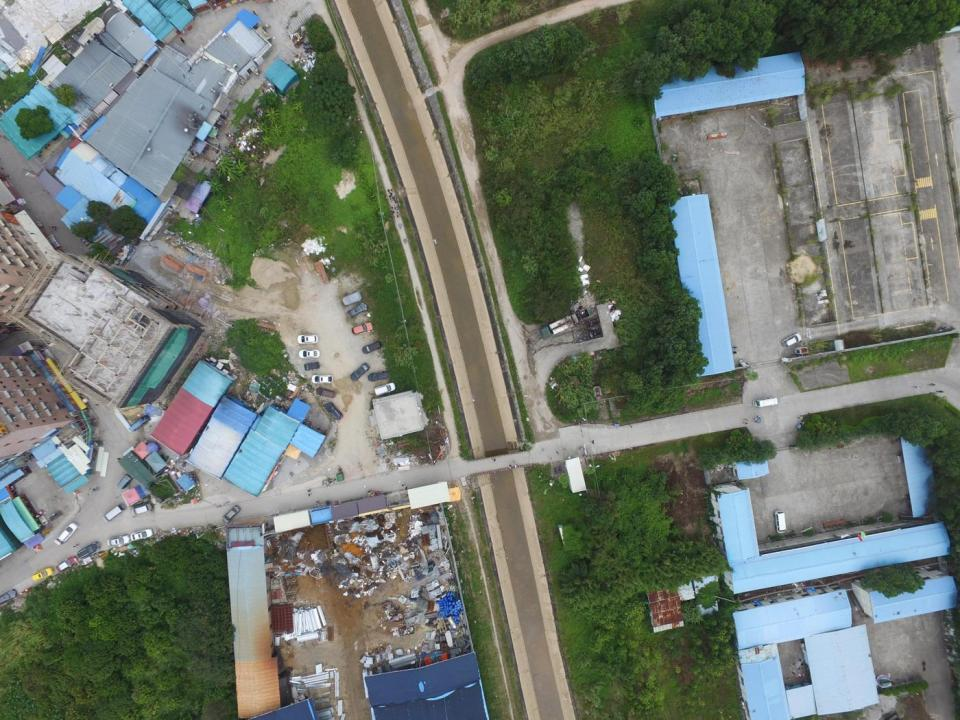bus: (752, 396, 778, 407)
car: (75, 541, 101, 560), (221, 504, 241, 524), (349, 362, 370, 381), (325, 400, 343, 421), (55, 556, 78, 572), (372, 381, 396, 396), (31, 567, 55, 582), (780, 332, 802, 348), (346, 302, 366, 318), (352, 321, 374, 335), (342, 291, 362, 306), (0, 588, 17, 605), (107, 534, 131, 546), (297, 333, 319, 345), (130, 529, 152, 541), (299, 348, 321, 359), (312, 373, 334, 384), (367, 370, 389, 381), (896, 453, 914, 463), (304, 362, 320, 371)
truck: (537, 307, 593, 340)
van: (53, 521, 79, 545), (102, 503, 127, 523), (773, 510, 787, 534), (116, 472, 134, 489), (362, 341, 382, 354), (132, 503, 152, 515), (316, 386, 335, 397)
